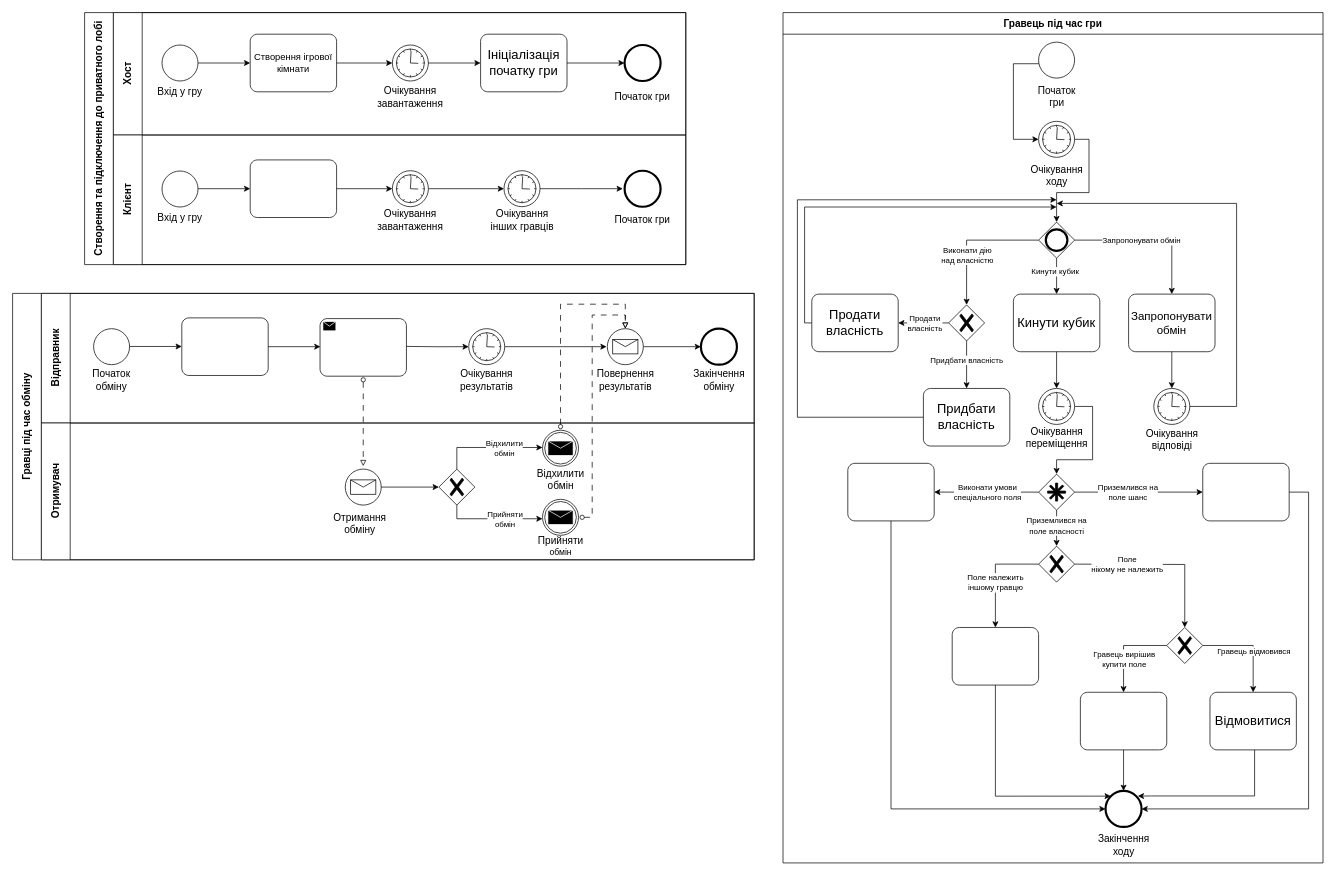
Image size: 1336x876. Some labels were removed from this diagram. Here are the shapes that lost their labels. From the top down, the centre of each, then its label:
At pixel 293 188: "Ввести код ігрової кімнати".
At pixel 224 346: "Заповення даних для обміну".
At pixel 362 347: "Відправка обміну".
At pixel 890 492: "Виконати дії спеціального поля".
At pixel 1245 492: "Виконати умови поля шанс".
At pixel 995 656: "Заплатити орендну плату".
At pixel 1123 721: "Придбати поле".
